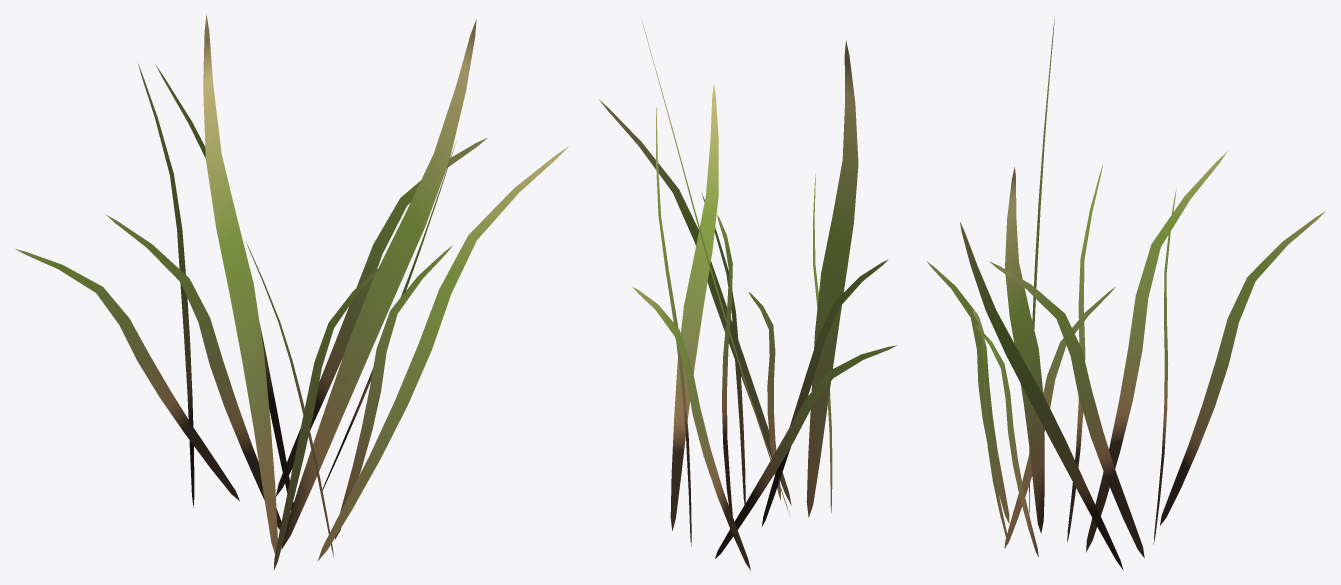
Rendered from tatarak-7.obj.
3 views of the same model, side by side, from view 1: azimuth 30°, elevation 25°; view 2: azimuth 150°, elevation 25°; view 3: azimuth 270°, elevation 25° (orthographic). The views are drawn at different scales.
Visible parts, largest first — view 1: tatarak7; view 2: tatarak7; view 3: tatarak7.
Boxes of the visible parts, x1,y1,x2,y2 form: tatarak7: (15,14,568,570); tatarak7: (599,20,896,570); tatarak7: (926,16,1325,570).
Bounding box in the file's own units: 0.4016 × 0.4779 × 0.3521.
1 material, 1 textured.
